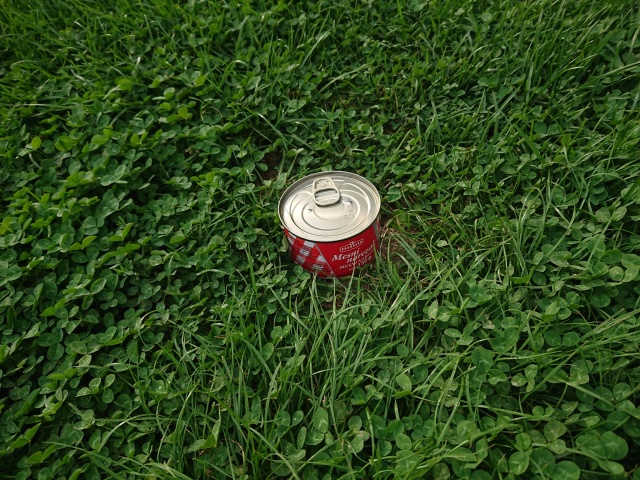Podravka Luncheon Meat 150g: (276, 167, 383, 281)
